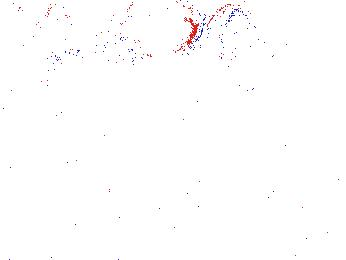moon jellyfish: (199, 3, 268, 103), (123, 1, 206, 61), (40, 1, 122, 58), (1, 3, 40, 101)
